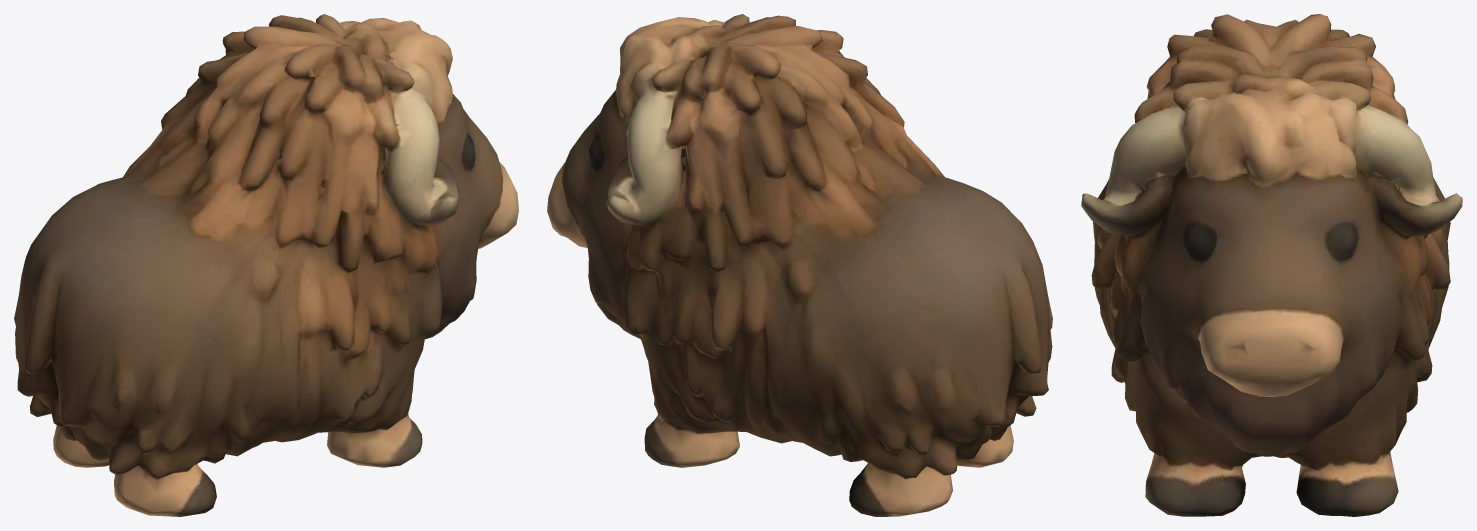
File: muskox.glb
3 views of the same model, side by side, from view 1: azimuth 30°, elevation 25°; view 2: azimuth 150°, elevation 25°; view 3: azimuth 270°, elevation 25° (orthographic). The views are drawn at different scales.
Bounding box in the file's own units: 1.01 × 0.8235 × 0.6288.
1 material, 1 textured.
